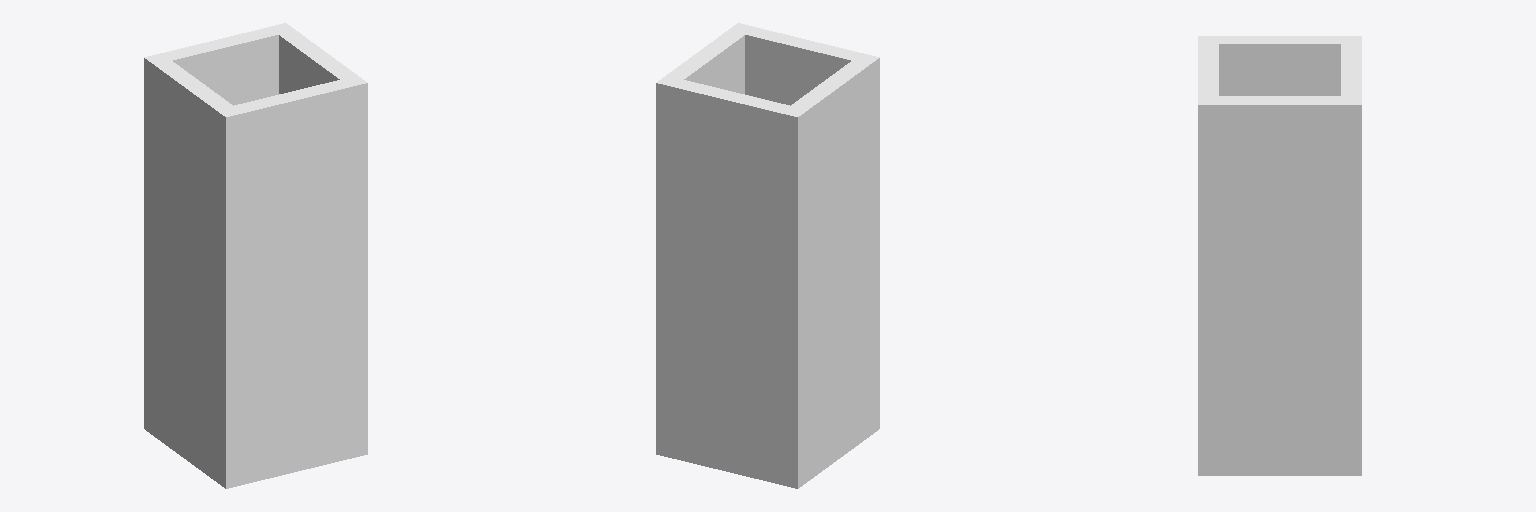
The model's file is humanoid-56.obj.
3 renders of one model, left to right at view 1: azimuth 30°, elevation 25°; view 2: azimuth 150°, elevation 25°; view 3: azimuth 270°, elevation 25°, orthographic.
Parts seen in each view (by area): view 1: humanoid-56; view 2: humanoid-56; view 3: humanoid-56.
Boxes of the visible parts, x1=… form: humanoid-56: x1=144, y1=23, x2=367, y2=488; humanoid-56: x1=656, y1=23, x2=879, y2=488; humanoid-56: x1=1198, y1=36, x2=1361, y2=475.
Size of the model in its own units: 8 by 20 by 8.